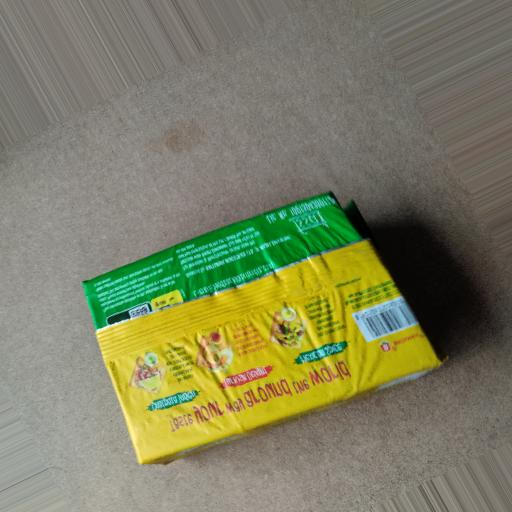Britannia Nutri-choice: (58, 160, 452, 483)
